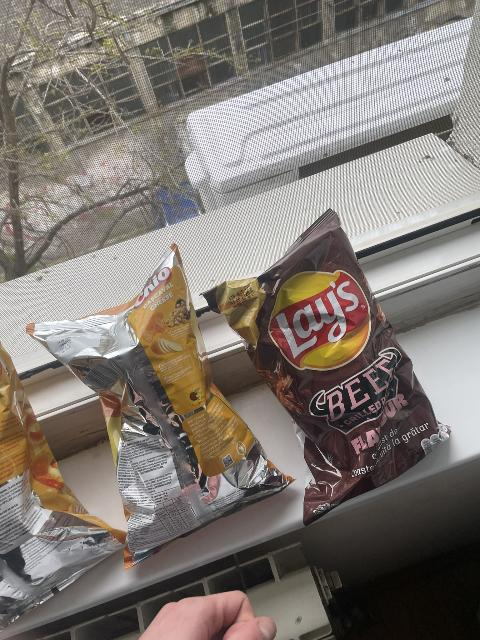Chio Cascaval 125g: (22, 239, 293, 563)
Chio Hula Hoops Cheese 70g: (1, 329, 133, 625)
Lays Beef Grilled Ribs 125g: (201, 208, 452, 522)
